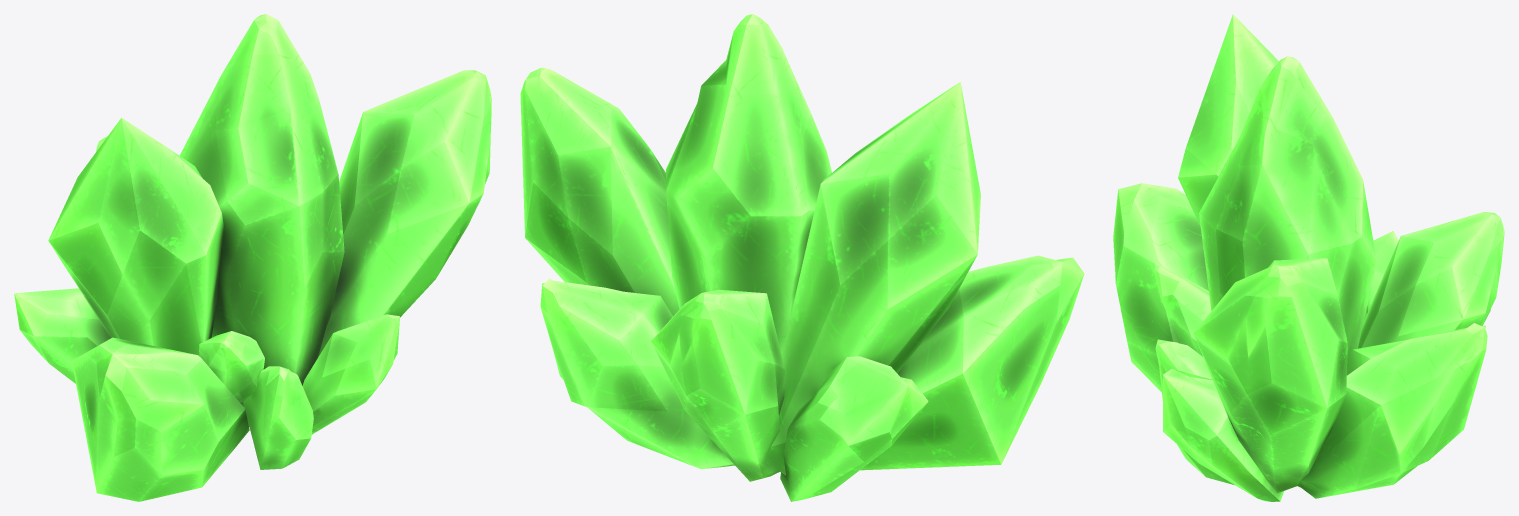
File: lgGreen.gltf
The picture shows the model from 3 angles, left to right: view 1: azimuth 30°, elevation 25°; view 2: azimuth 150°, elevation 25°; view 3: azimuth 270°, elevation 25°; orthographic projection. The views are drawn at different scales.
Visible parts, largest first — view 1: Object_6; view 2: Object_6; view 3: Object_6.
Part boxes in pixels (x1=…): Object_6: x1=14, y1=14, x2=491, y2=501; Object_6: x1=520, y1=14, x2=1084, y2=501; Object_6: x1=1113, y1=14, x2=1504, y2=501.
Bounding box in the file's own units: 2.77 × 2.46 × 2.
Materials: 1 (1 with a texture image).
